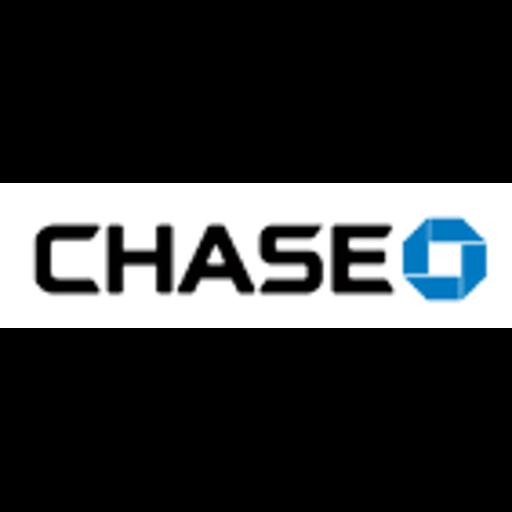Chase Personal Banking: (0, 183, 512, 328)
